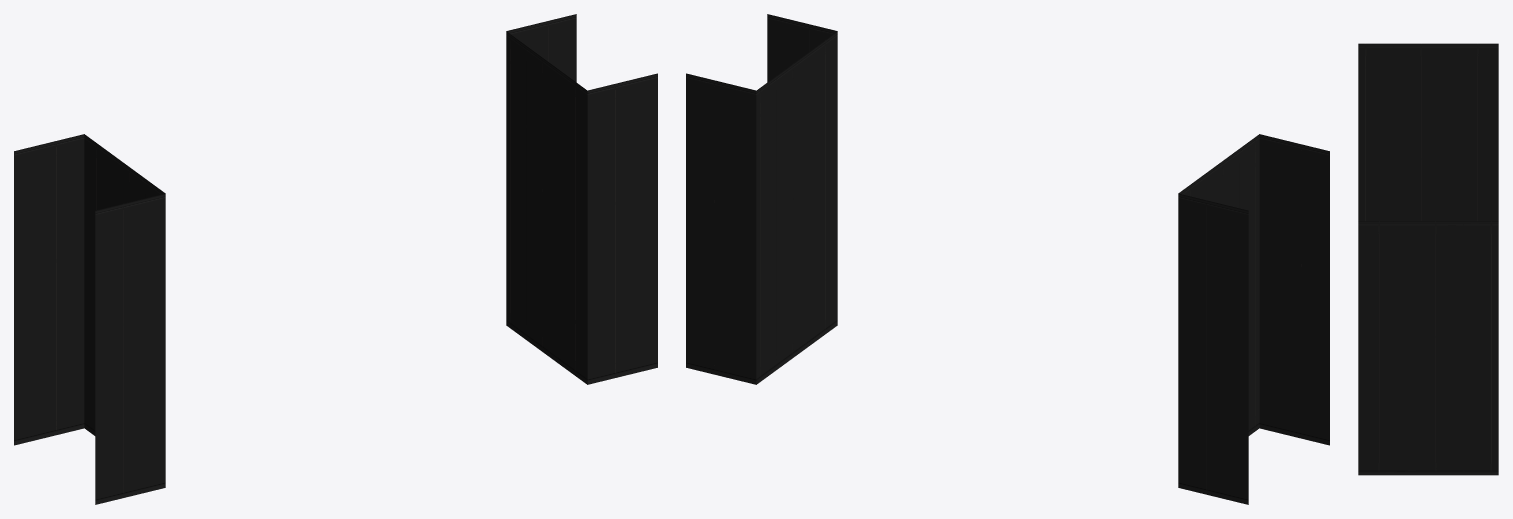
Rendered from Lift_Wall.fbx.
3 renders of one model, left to right at view 1: azimuth 30°, elevation 25°; view 2: azimuth 150°, elevation 25°; view 3: azimuth 270°, elevation 25°, orthographic. The views are drawn at different scales.
Visible parts, largest first — view 1: BlueChip_Interior; view 2: BlueChip_Interior; view 3: BlueChip_Interior.
Part boxes in pixels (<box>): BlueChip_Interior: <box>14,14,657,504</box>; BlueChip_Interior: <box>686,14,1329,504</box>; BlueChip_Interior: <box>1358,43,1498,475</box>.
Size of the model in its own units: 1600 by 800 by 400.
